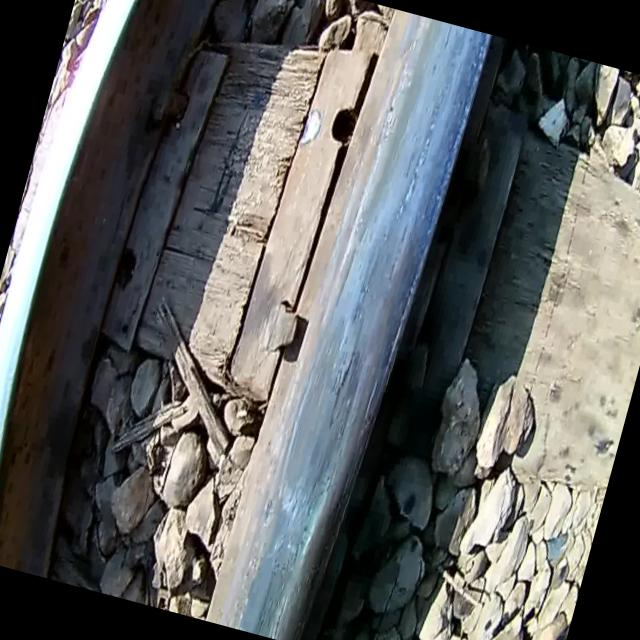Squats: (182, 0, 513, 640)
